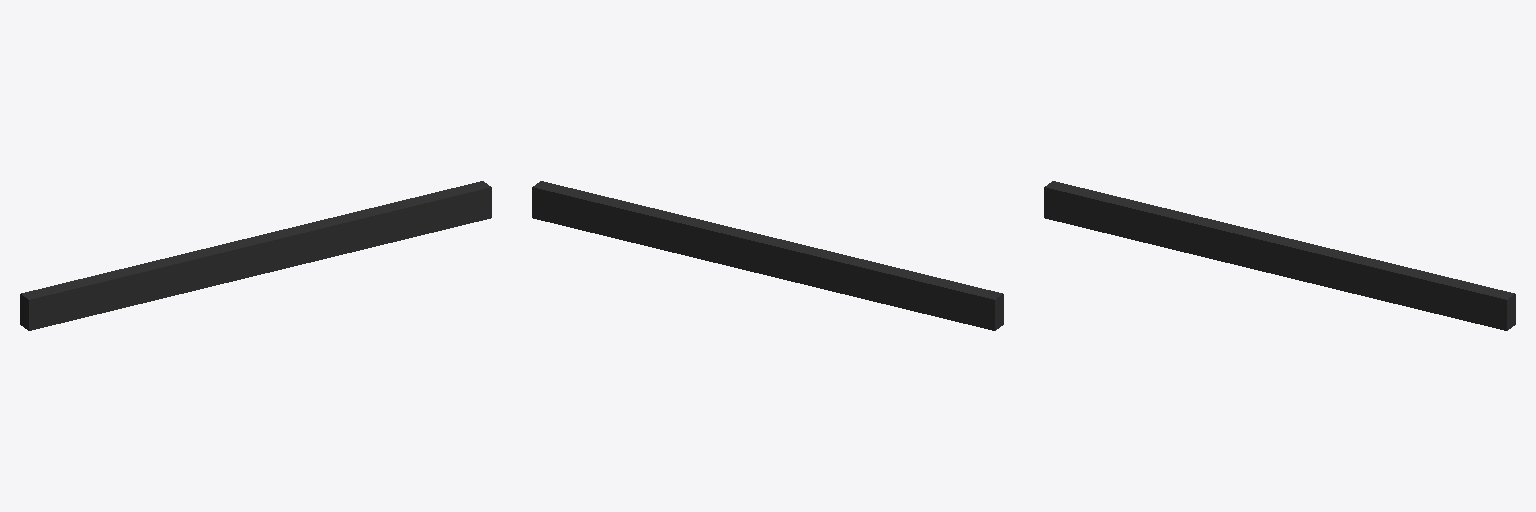
URDF robot description (wall):
<robot name="wall">
  <link name="baseLink">
   
    <inertial>
      <origin rpy="0 0 0" xyz="0 0 0" />
       <mass value="10" />
       <inertia ixx="0" ixy="0" ixz="0" iyy="0" iyz="0" izz="0" />
    </inertial>
    <visual>
      <origin rpy="0 0 0" xyz="0 0 0" />
      <geometry>
			  <box size="3.1 0.1 0.2" />
      </geometry>
       <material name="grey">
        <color rgba="0.24 0.24 0.24 1" />
      </material>
    </visual>
    <collision>
      <origin rpy="0 0 0" xyz="0 0 0" />
      <geometry>
	 	      <box size="3.1 0.1 0.2" />
      </geometry>
    </collision>
  </link>
</robot>

--- What the picture shows (computed from the rendered views, not written in the file) ---
The picture shows the robot from 3 angles, left to right: view 1: azimuth 30°, elevation 25°; view 2: azimuth 150°, elevation 25°; view 3: azimuth 330°, elevation 25°; orthographic projection.
Model wall with 1 links and 0 joints (none), rooted at baseLink, posed all joints at 0.
Visible links, largest first — view 1: baseLink; view 2: baseLink; view 3: baseLink.
Boxes of the visible links, box(x1,y1,x2,y2) form: baseLink: box(20, 181, 491, 330); baseLink: box(532, 181, 1003, 330); baseLink: box(1044, 181, 1515, 330).
Bounding box of the posed robot: 3.1 × 0.1 × 0.2 m (x, y, z).
Geometry: primitives only (box / cylinder / sphere), no mesh files.
